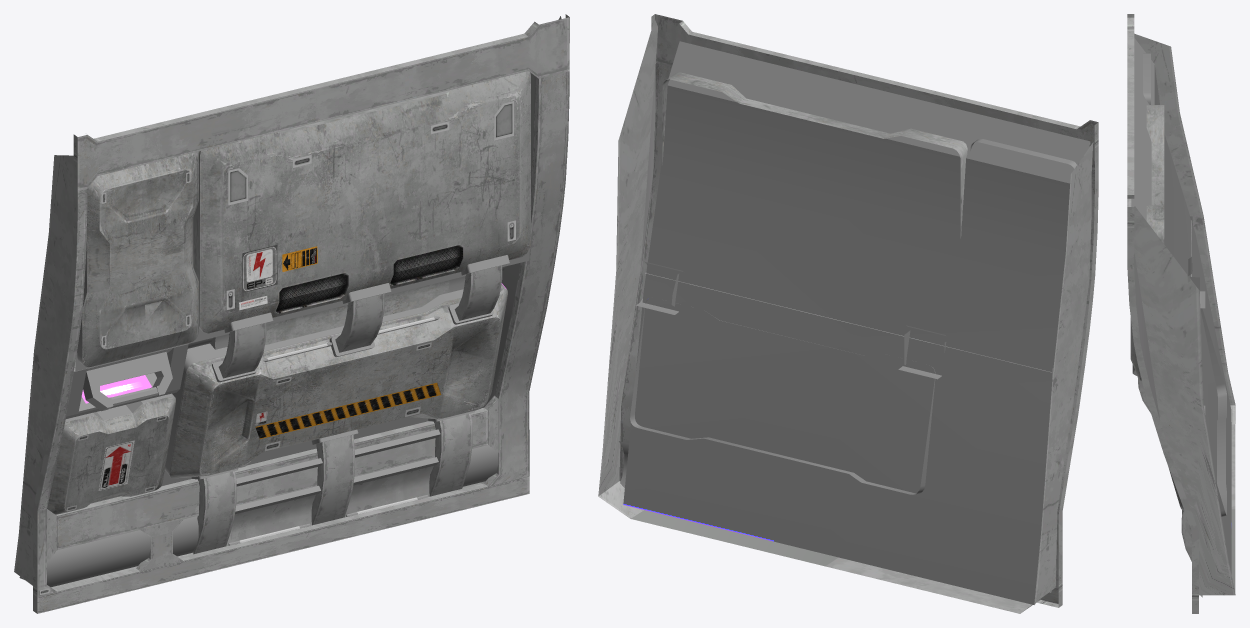
File: Shuttle_interior_Door.FBX
3 views of the same model, side by side, from view 1: azimuth 30°, elevation 25°; view 2: azimuth 150°, elevation 25°; view 3: azimuth 270°, elevation 25° (orthographic). The views are drawn at different scales.
Parts seen in each view (by area): view 1: Shuttle_interior_Door; view 2: Shuttle_interior_Door; view 3: Shuttle_interior_Door.
Part boxes in pixels (x1=…): Shuttle_interior_Door: x1=14, y1=14, x2=569, y2=613; Shuttle_interior_Door: x1=598, y1=14, x2=1098, y2=613; Shuttle_interior_Door: x1=1127, y1=14, x2=1235, y2=613.
Size of the model in its own units: 2.22 by 2.19 by 0.5273.
